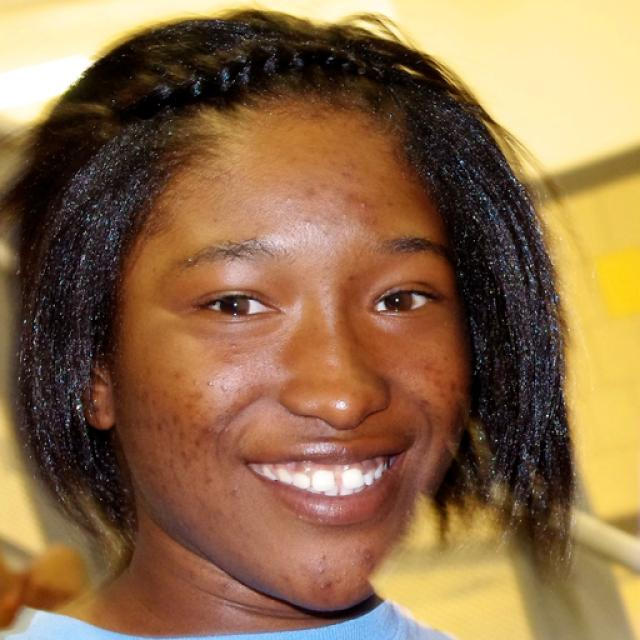Acne: (351, 187, 374, 217), (223, 476, 245, 501), (358, 546, 385, 566), (203, 426, 233, 443), (296, 208, 315, 233), (312, 580, 336, 599), (223, 337, 240, 354), (279, 193, 296, 209), (200, 374, 215, 392), (311, 567, 332, 579), (215, 383, 231, 398)
Spots: (401, 355, 464, 420), (149, 411, 198, 477), (297, 177, 351, 212), (194, 467, 214, 488)
